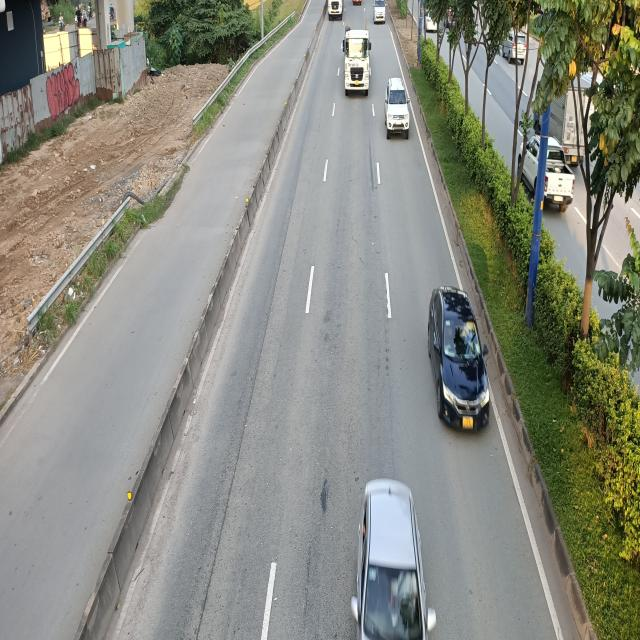car: (348, 479, 433, 640), (428, 285, 489, 432), (383, 78, 411, 138)
container: (342, 16, 372, 96)
